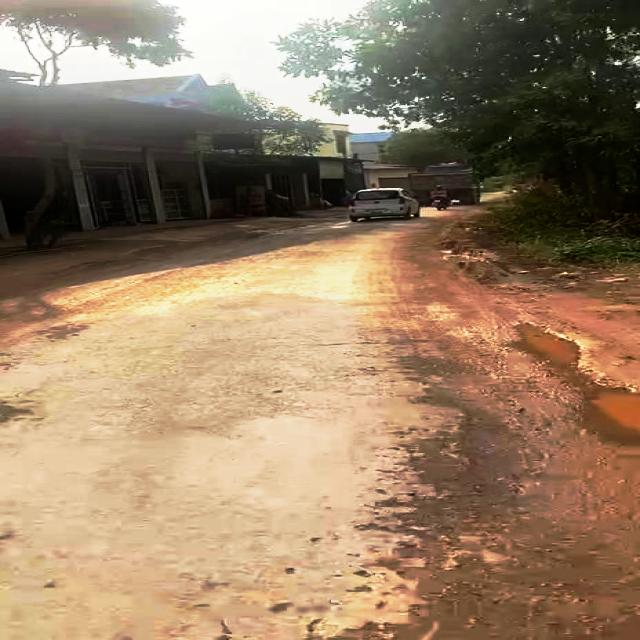pothole: (505, 316, 640, 446)
